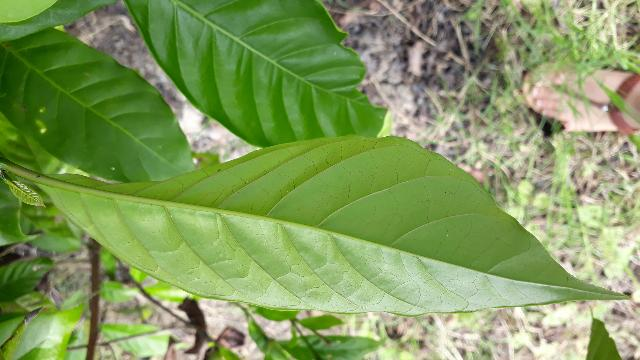healthy: (42, 135, 630, 316)
